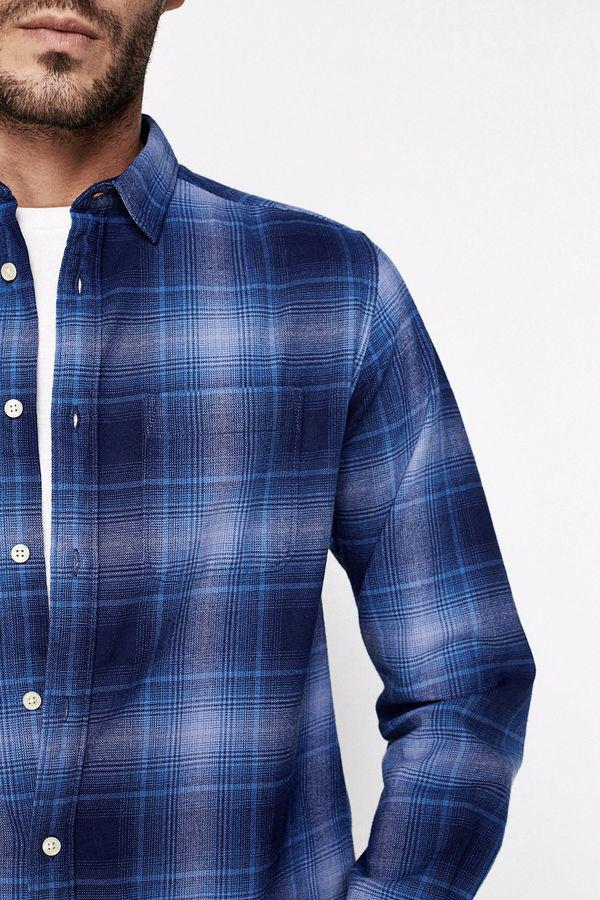teeshirt: (1, 110, 544, 898)
